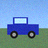vehicle: (7, 17, 38, 38)
